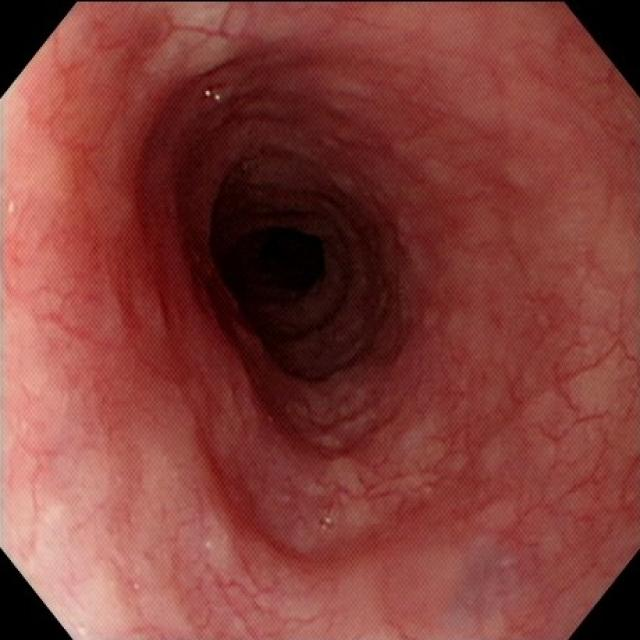E: (224, 169, 346, 333)
T: (203, 81, 232, 105)
